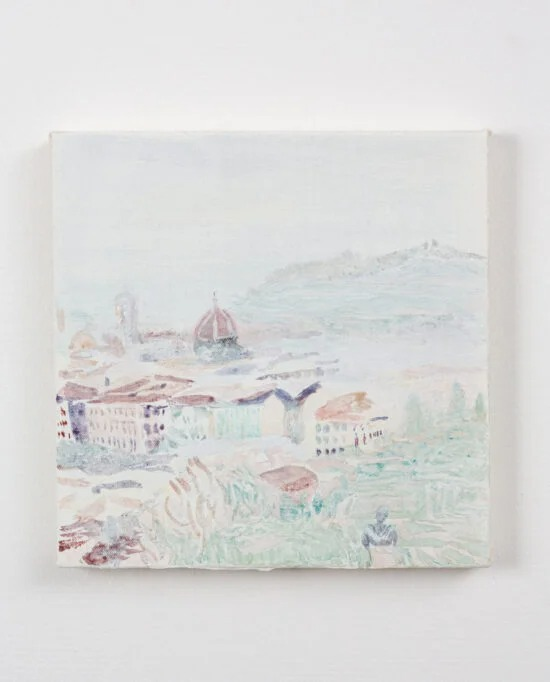painting: (51, 130, 492, 570)
